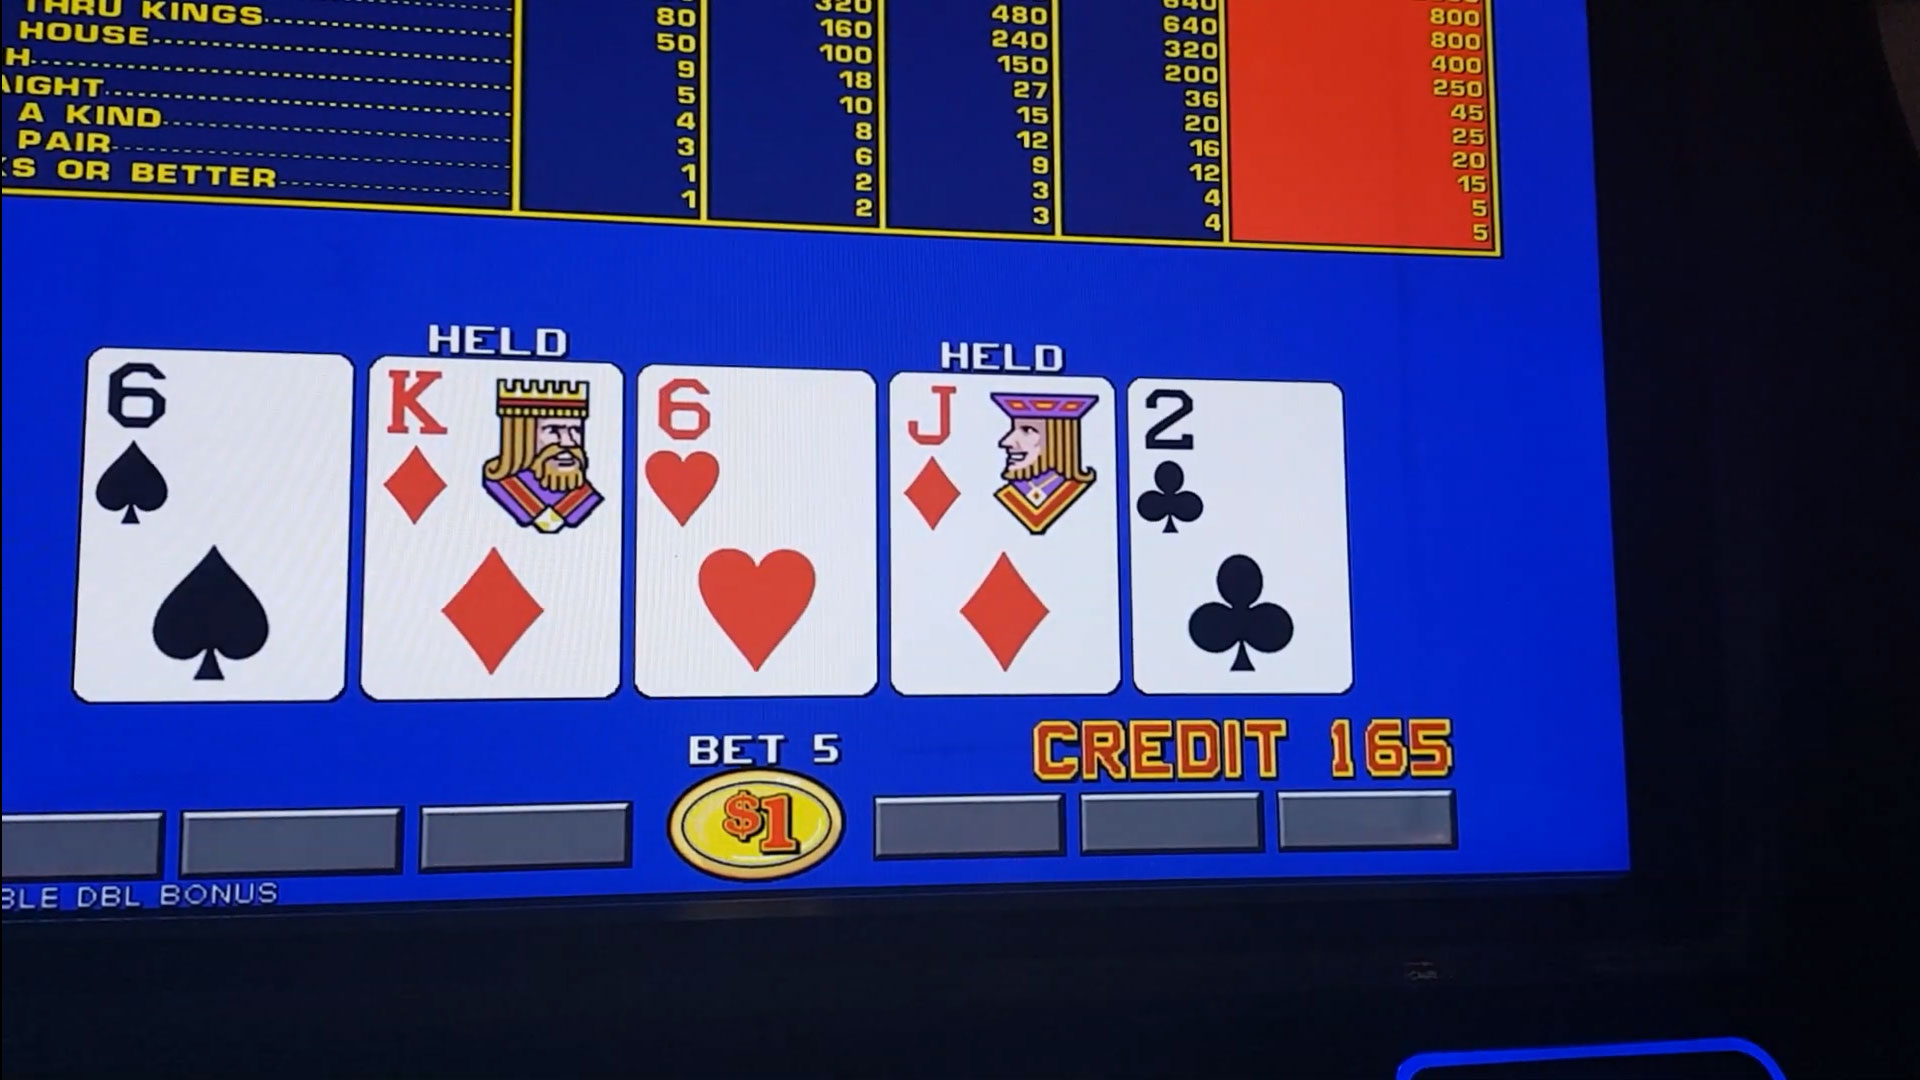C2: (1135, 386, 1341, 541)
DJ: (895, 378, 1112, 543)
DK: (378, 367, 613, 530)
H6: (644, 375, 874, 531)
S6: (94, 357, 342, 531)
